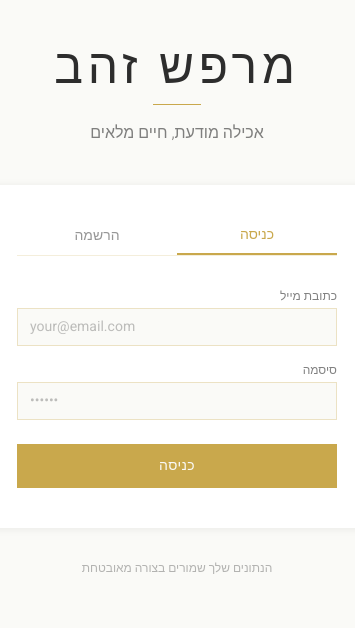
Test: Property 2: Preservation - UI and Toggle Functionality › PRESERVATION: Should toggle between signin and register modes
Expected: the field labelled "שם" is not shown
Expected: the button with aria-label "כניסה לחשבון" is shown, [17, 444, 337, 488]
Switch to registration mode
Click the button "הרשמה" at (97, 240), box [17, 225, 177, 255]
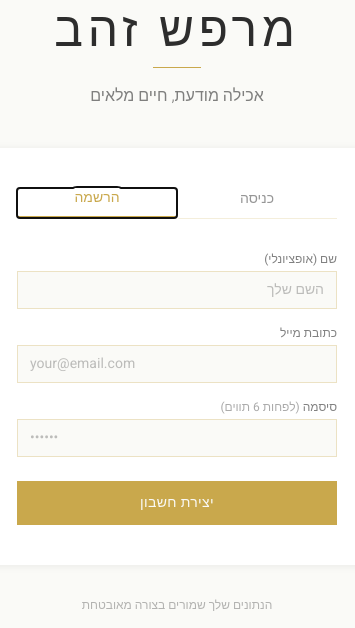
Result: the field labelled "שם (אופציונלי)" is shown at [17, 271, 337, 309]
Result: the button with aria-label "יצירת חשבון חדש" is shown at [17, 481, 337, 525]
Switch back to signin mode
Click the button "כניסה" at (257, 203), box [177, 188, 337, 218]
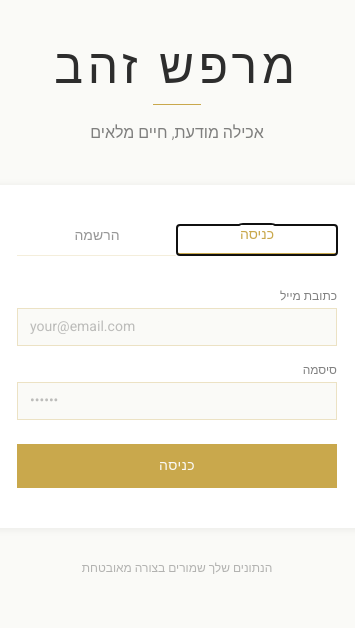
Result: the label labelled "שם" is gone
Result: the button with aria-label "כניסה לחשבון" is shown at [17, 444, 337, 488]
